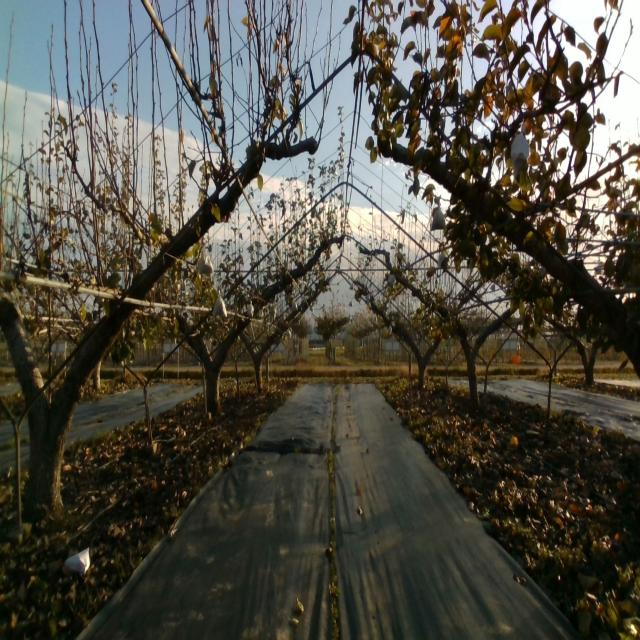pearbags: (510, 124, 530, 170), (197, 246, 214, 275), (212, 288, 228, 318), (430, 202, 446, 232)
